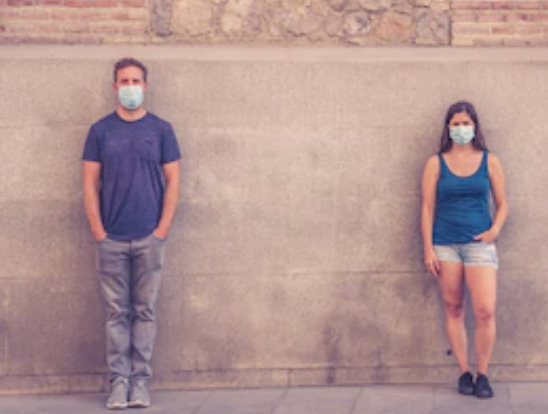Good: (75, 57, 508, 409)
